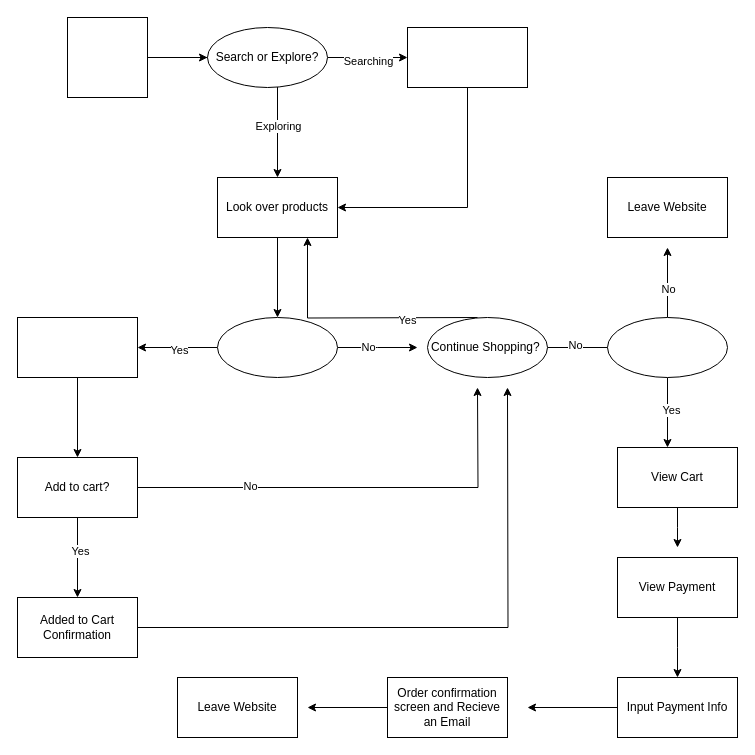
Image size: 755x755. Some labels were removed from this diagram. The centre of each missing label's shape, as x and y in pixels:
Checkout?: point (667, 347)
Enter Input to the website: point (467, 57)
Enter Website: point (107, 57)
Product Webpage opens: point (77, 347)
View Product?: point (277, 347)
